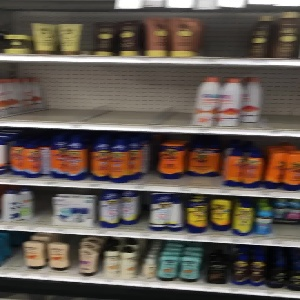void: (42, 61, 194, 125), (260, 67, 300, 128), (200, 12, 250, 57), (1, 231, 25, 271)
